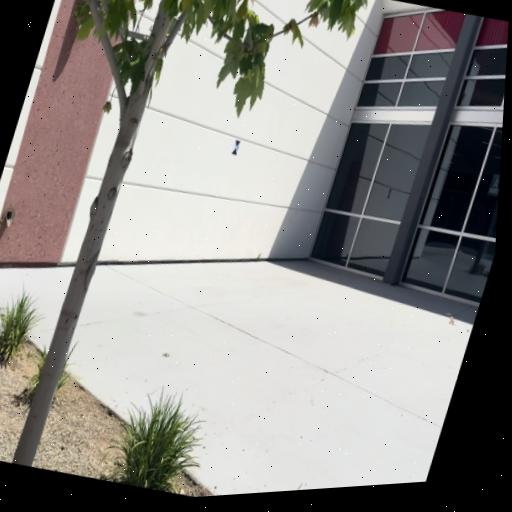target4: (231, 139, 241, 155)
